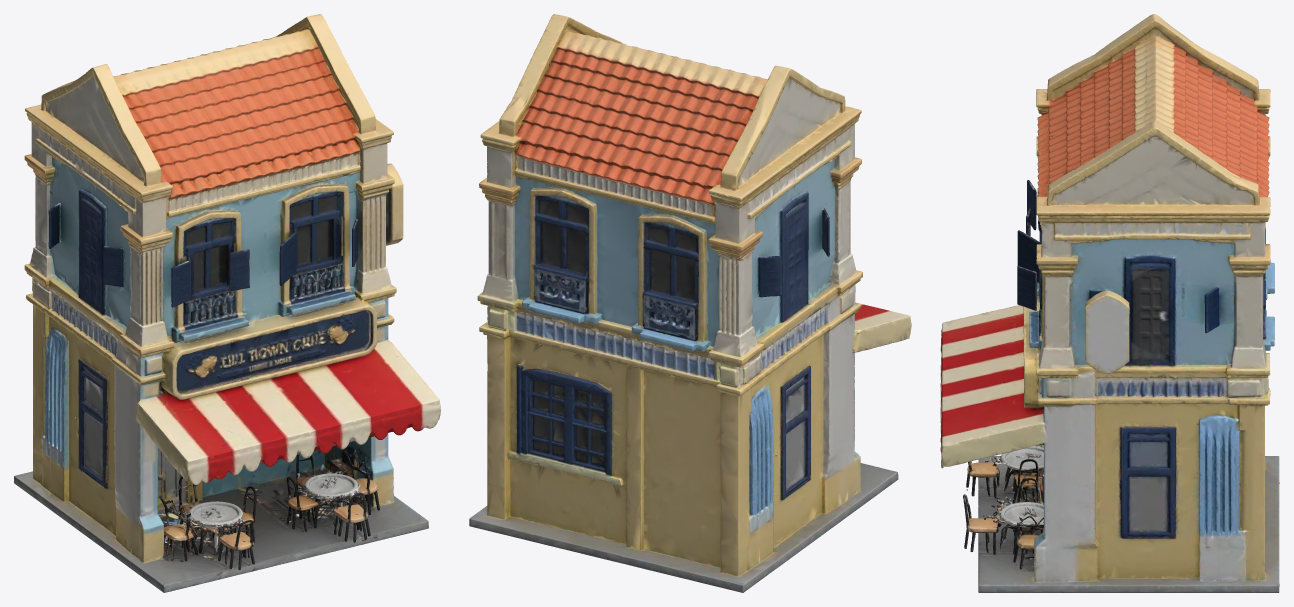
The model's file is shophouse_B_opt.glb.
3 views of the same model, side by side, from view 1: azimuth 30°, elevation 25°; view 2: azimuth 150°, elevation 25°; view 3: azimuth 270°, elevation 25° (orthographic). The views are drawn at different scales.
Parts seen in each view (by area): view 1: Mesh_0; view 2: Mesh_0; view 3: Mesh_0.
Part boxes in pixels (bbox=[...]): Mesh_0: bbox=[14, 14, 440, 592]; Mesh_0: bbox=[469, 14, 911, 592]; Mesh_0: bbox=[940, 14, 1279, 592].
Size of the model in its own units: 3.37 by 5 by 3.35.
Materials: 1 (1 with a texture image).
